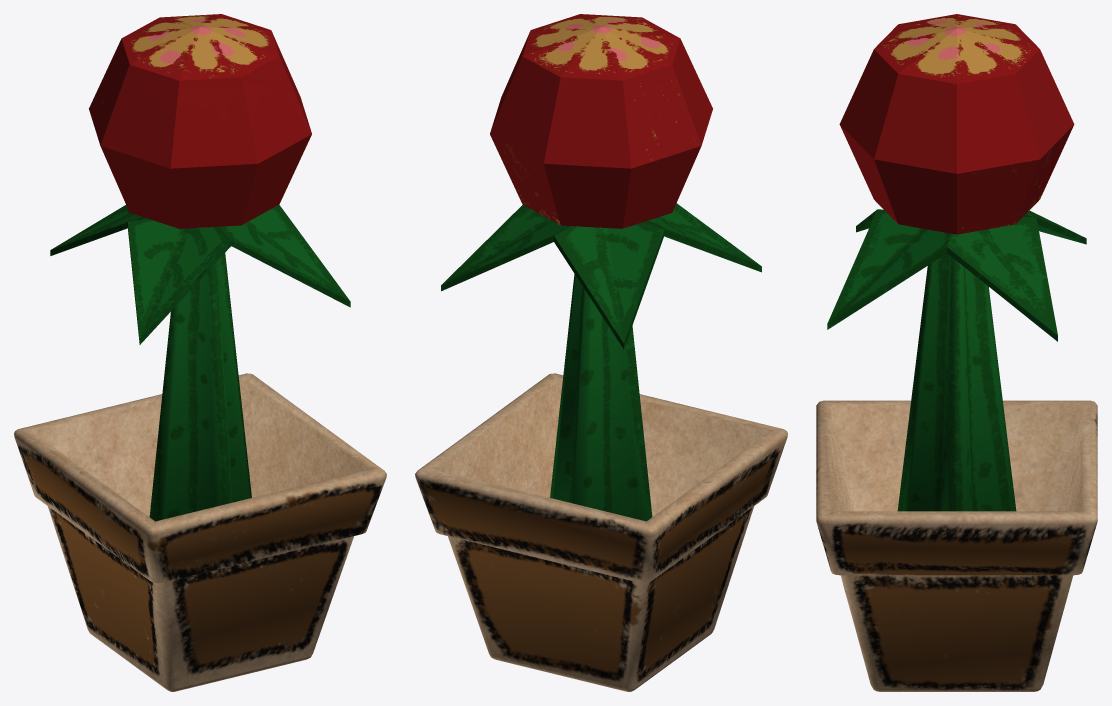
The model's file is 20s_PlantPot.fbx.
3 renders of one model, left to right at view 1: azimuth 30°, elevation 25°; view 2: azimuth 150°, elevation 25°; view 3: azimuth 270°, elevation 25°, orthographic.
Parts seen in each view (by area): view 1: 20s_PlantPot; view 2: 20s_PlantPot; view 3: 20s_PlantPot.
Part boxes in pixels (bbox=[...]): 20s_PlantPot: bbox=[14, 14, 386, 691]; 20s_PlantPot: bbox=[415, 14, 787, 691]; 20s_PlantPot: bbox=[816, 14, 1097, 691].
Bounding box in the file's own units: 49.1 × 121 × 49.1.
